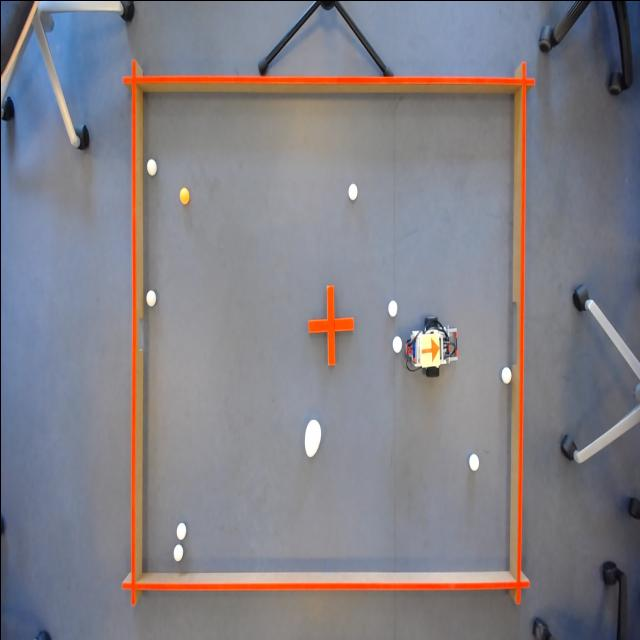cross: (306, 282, 355, 367)
egg: (302, 416, 322, 461)
orange_ball: (178, 182, 190, 206)
robot: (418, 326, 440, 368)
white_ball: (499, 363, 512, 389), (344, 178, 358, 202), (142, 283, 156, 307), (172, 518, 186, 542), (386, 294, 398, 320), (172, 538, 185, 562), (146, 156, 158, 179), (391, 331, 402, 356), (466, 451, 478, 473)
